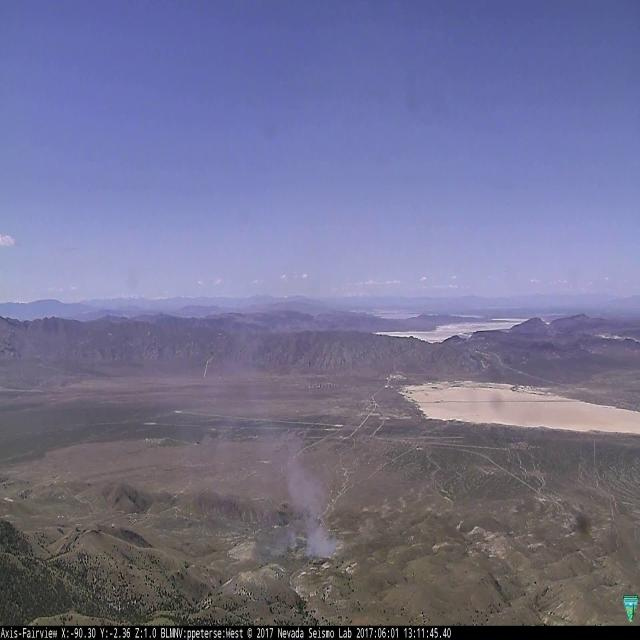smoke: (185, 316, 342, 561)
